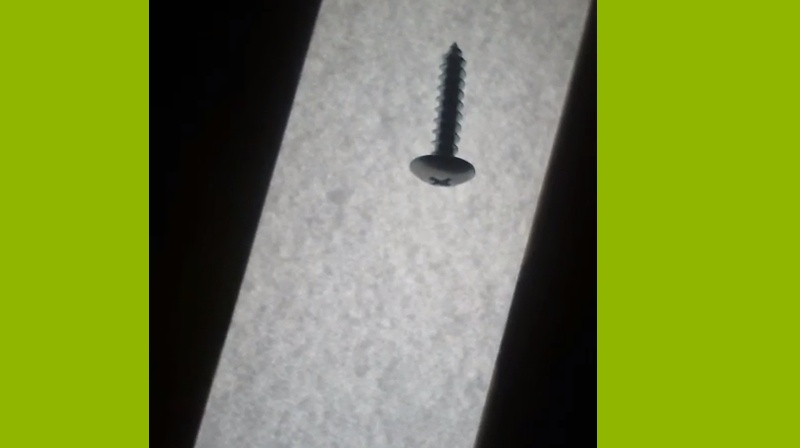S003: (406, 37, 476, 190)
